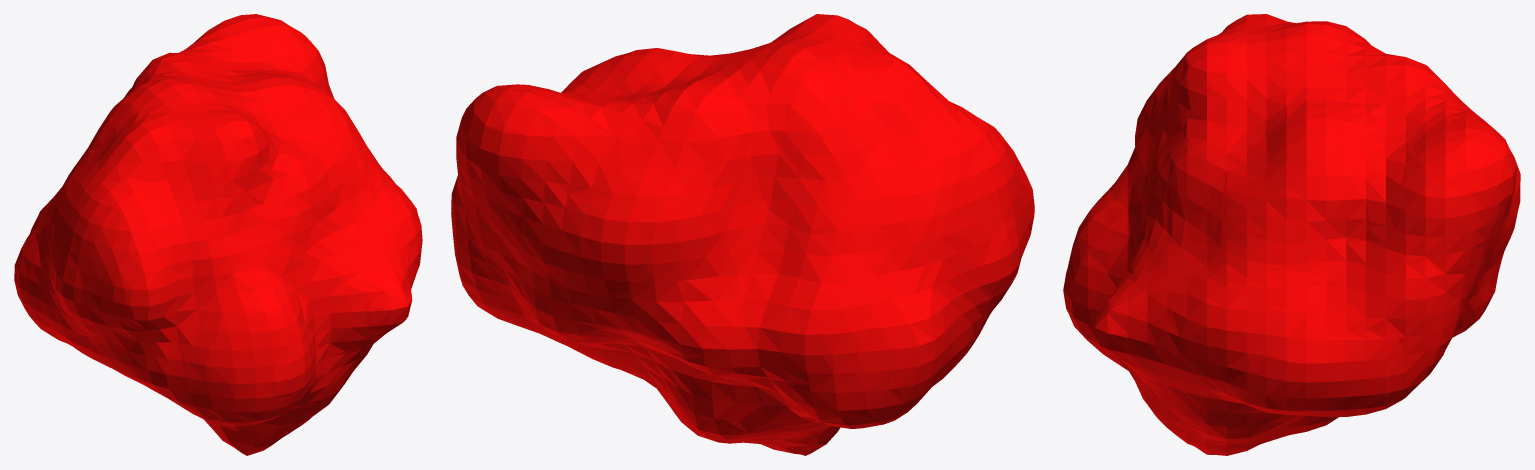
Rendered from ung_coarse.dae.
3 views of the same model, side by side, from view 1: azimuth 30°, elevation 25°; view 2: azimuth 150°, elevation 25°; view 3: azimuth 270°, elevation 25° (orthographic). The views are drawn at different scales.
Parts seen in each view (by area): view 1: ung; view 2: ung; view 3: ung.
Part boxes in pixels (x1,y1,x2,y2): ung: (14, 14, 422, 455); ung: (451, 14, 1034, 455); ung: (1063, 14, 1520, 455).
Bounding box in the file's own units: 52.3 × 46.08 × 47.21.
